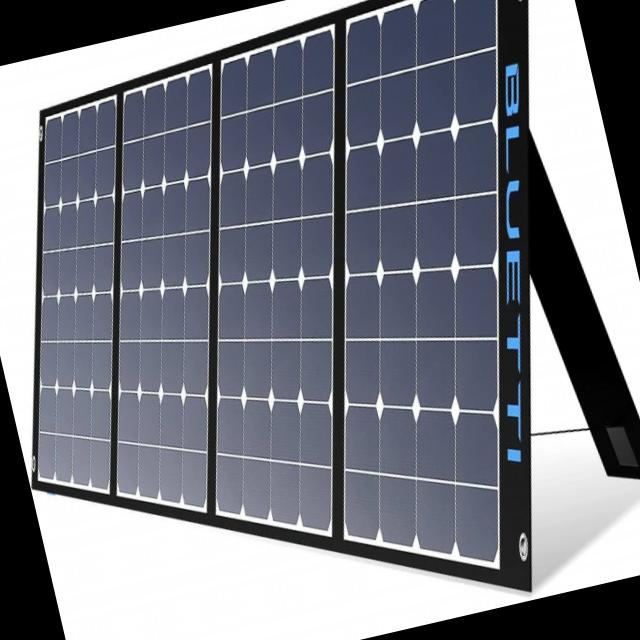no faulty: (344, 0, 498, 556), (210, 26, 336, 534), (119, 64, 207, 506), (37, 104, 116, 494)
